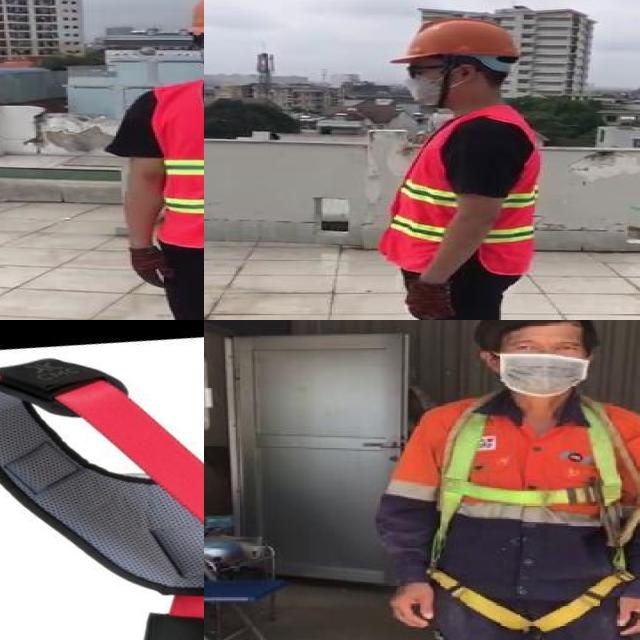Harness: (0, 359, 204, 640)
face_mask: (499, 336, 587, 396), (395, 60, 457, 106)
hand_glove: (125, 245, 176, 286), (405, 280, 455, 319)
hand_noglove: (380, 574, 440, 634), (613, 589, 640, 640)
head_helmet: (392, 18, 522, 63), (481, 320, 598, 341)
person: (372, 320, 640, 640), (351, 5, 559, 320), (111, 0, 204, 320)
vest: (382, 118, 476, 274), (476, 108, 533, 275), (153, 80, 204, 252)
